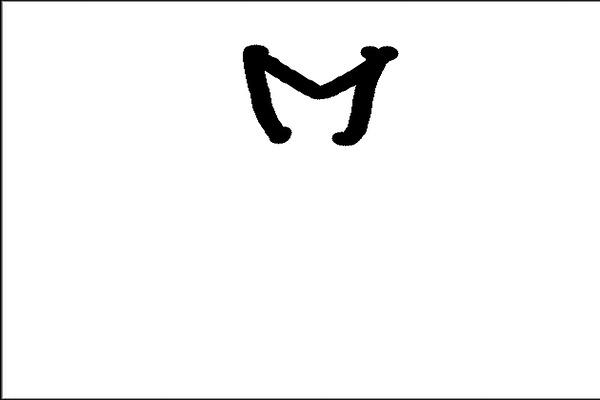M: (240, 36, 398, 153)
